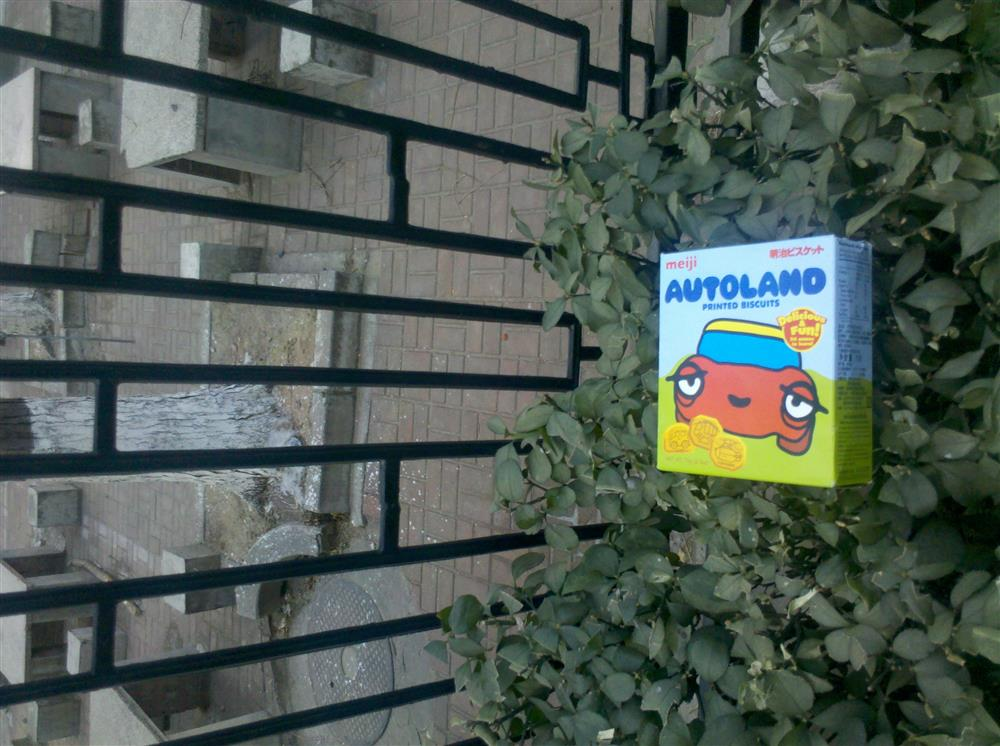Autoland: (656, 245, 867, 489)
